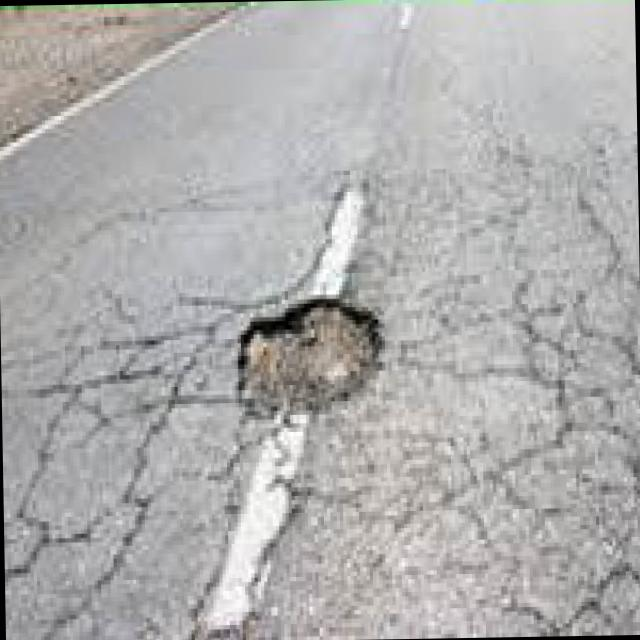Potholes: (210, 282, 398, 430)
